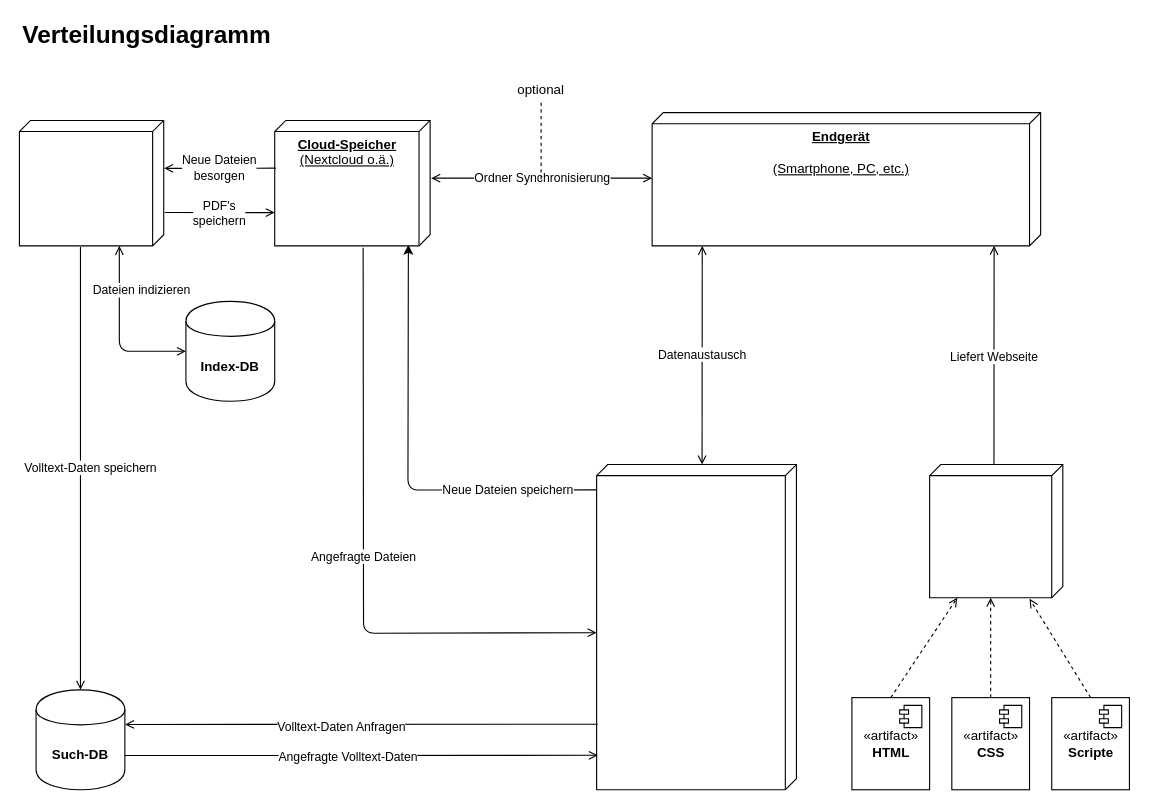
The diagram is 1149 pixels wide and 809 high, and some of its shapes have lost their labels. Each missing label, with the centre of its shape:
Analyse-Server: the point at 91,182
Apollo Server (GraphQL): the point at 696,626
Webserver: the point at 996,530
